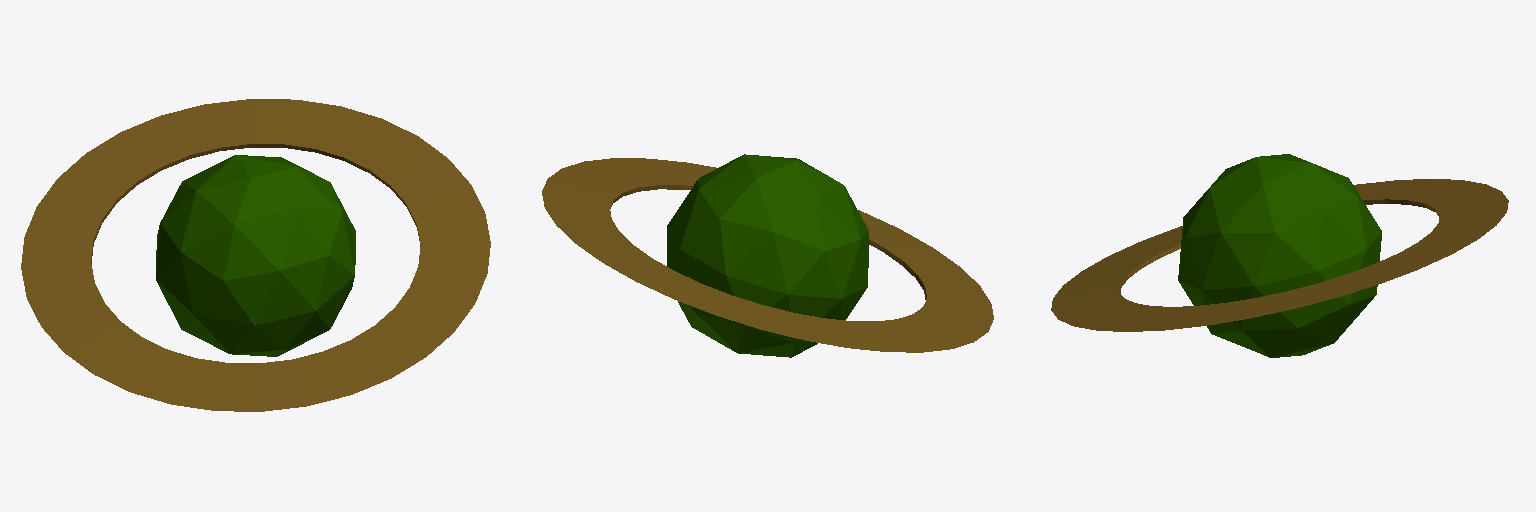
The model's file is dosei.obj.
3 renders of one model, left to right at view 1: azimuth 30°, elevation 25°; view 2: azimuth 150°, elevation 25°; view 3: azimuth 270°, elevation 25°, orthographic.
Visible parts, largest first — view 1: Icosphere; view 2: Icosphere; view 3: Icosphere.
Part boxes in pixels (left/top/right/bottom): Icosphere: left=21, top=99, right=490, bottom=411; Icosphere: left=542, top=154, right=993, bottom=357; Icosphere: left=1051, top=154, right=1508, bottom=357.
Bounding box in the file's own units: 4.39 × 1.91 × 4.36.